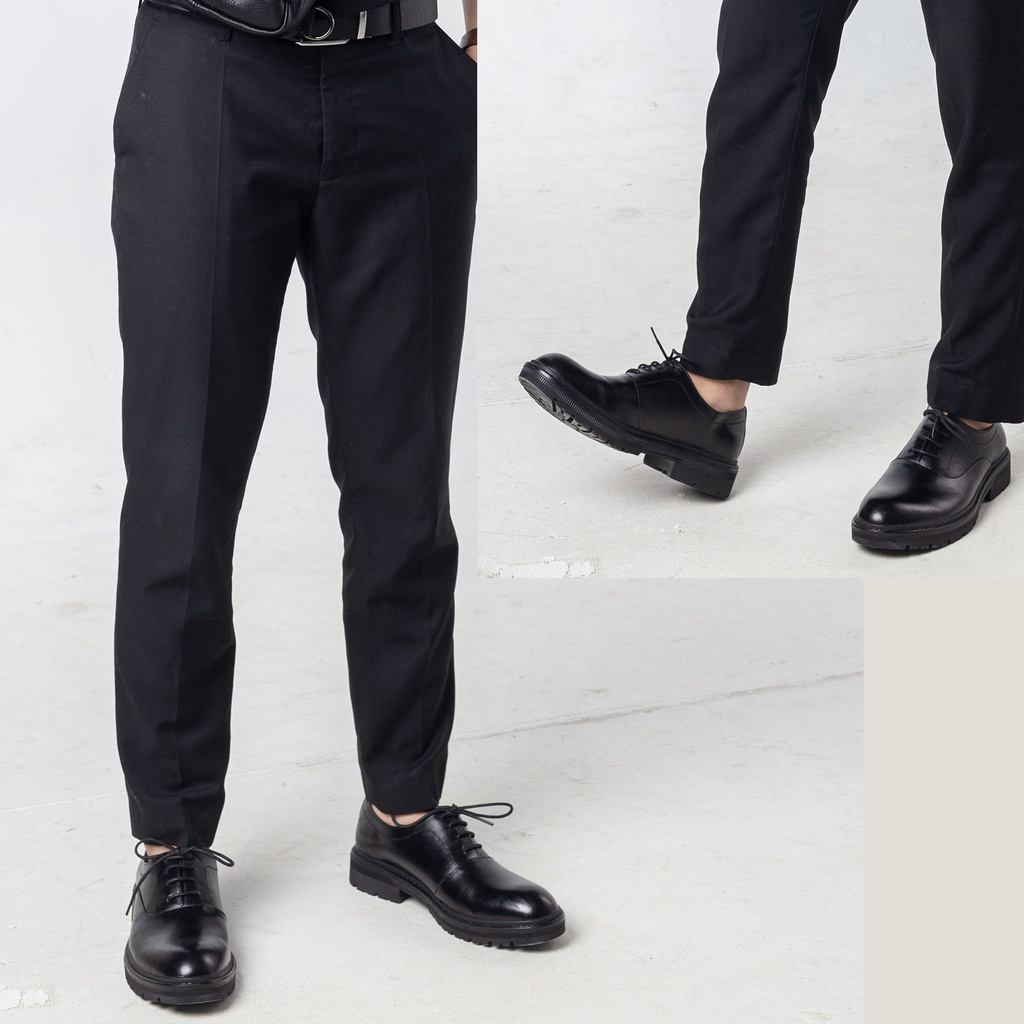derby: (515, 347, 748, 501), (347, 800, 568, 953), (849, 408, 1014, 553), (122, 846, 239, 1009)
